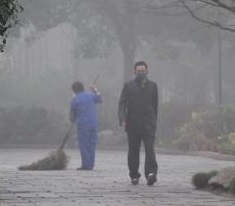person: (117, 61, 163, 187), (68, 80, 105, 173)
